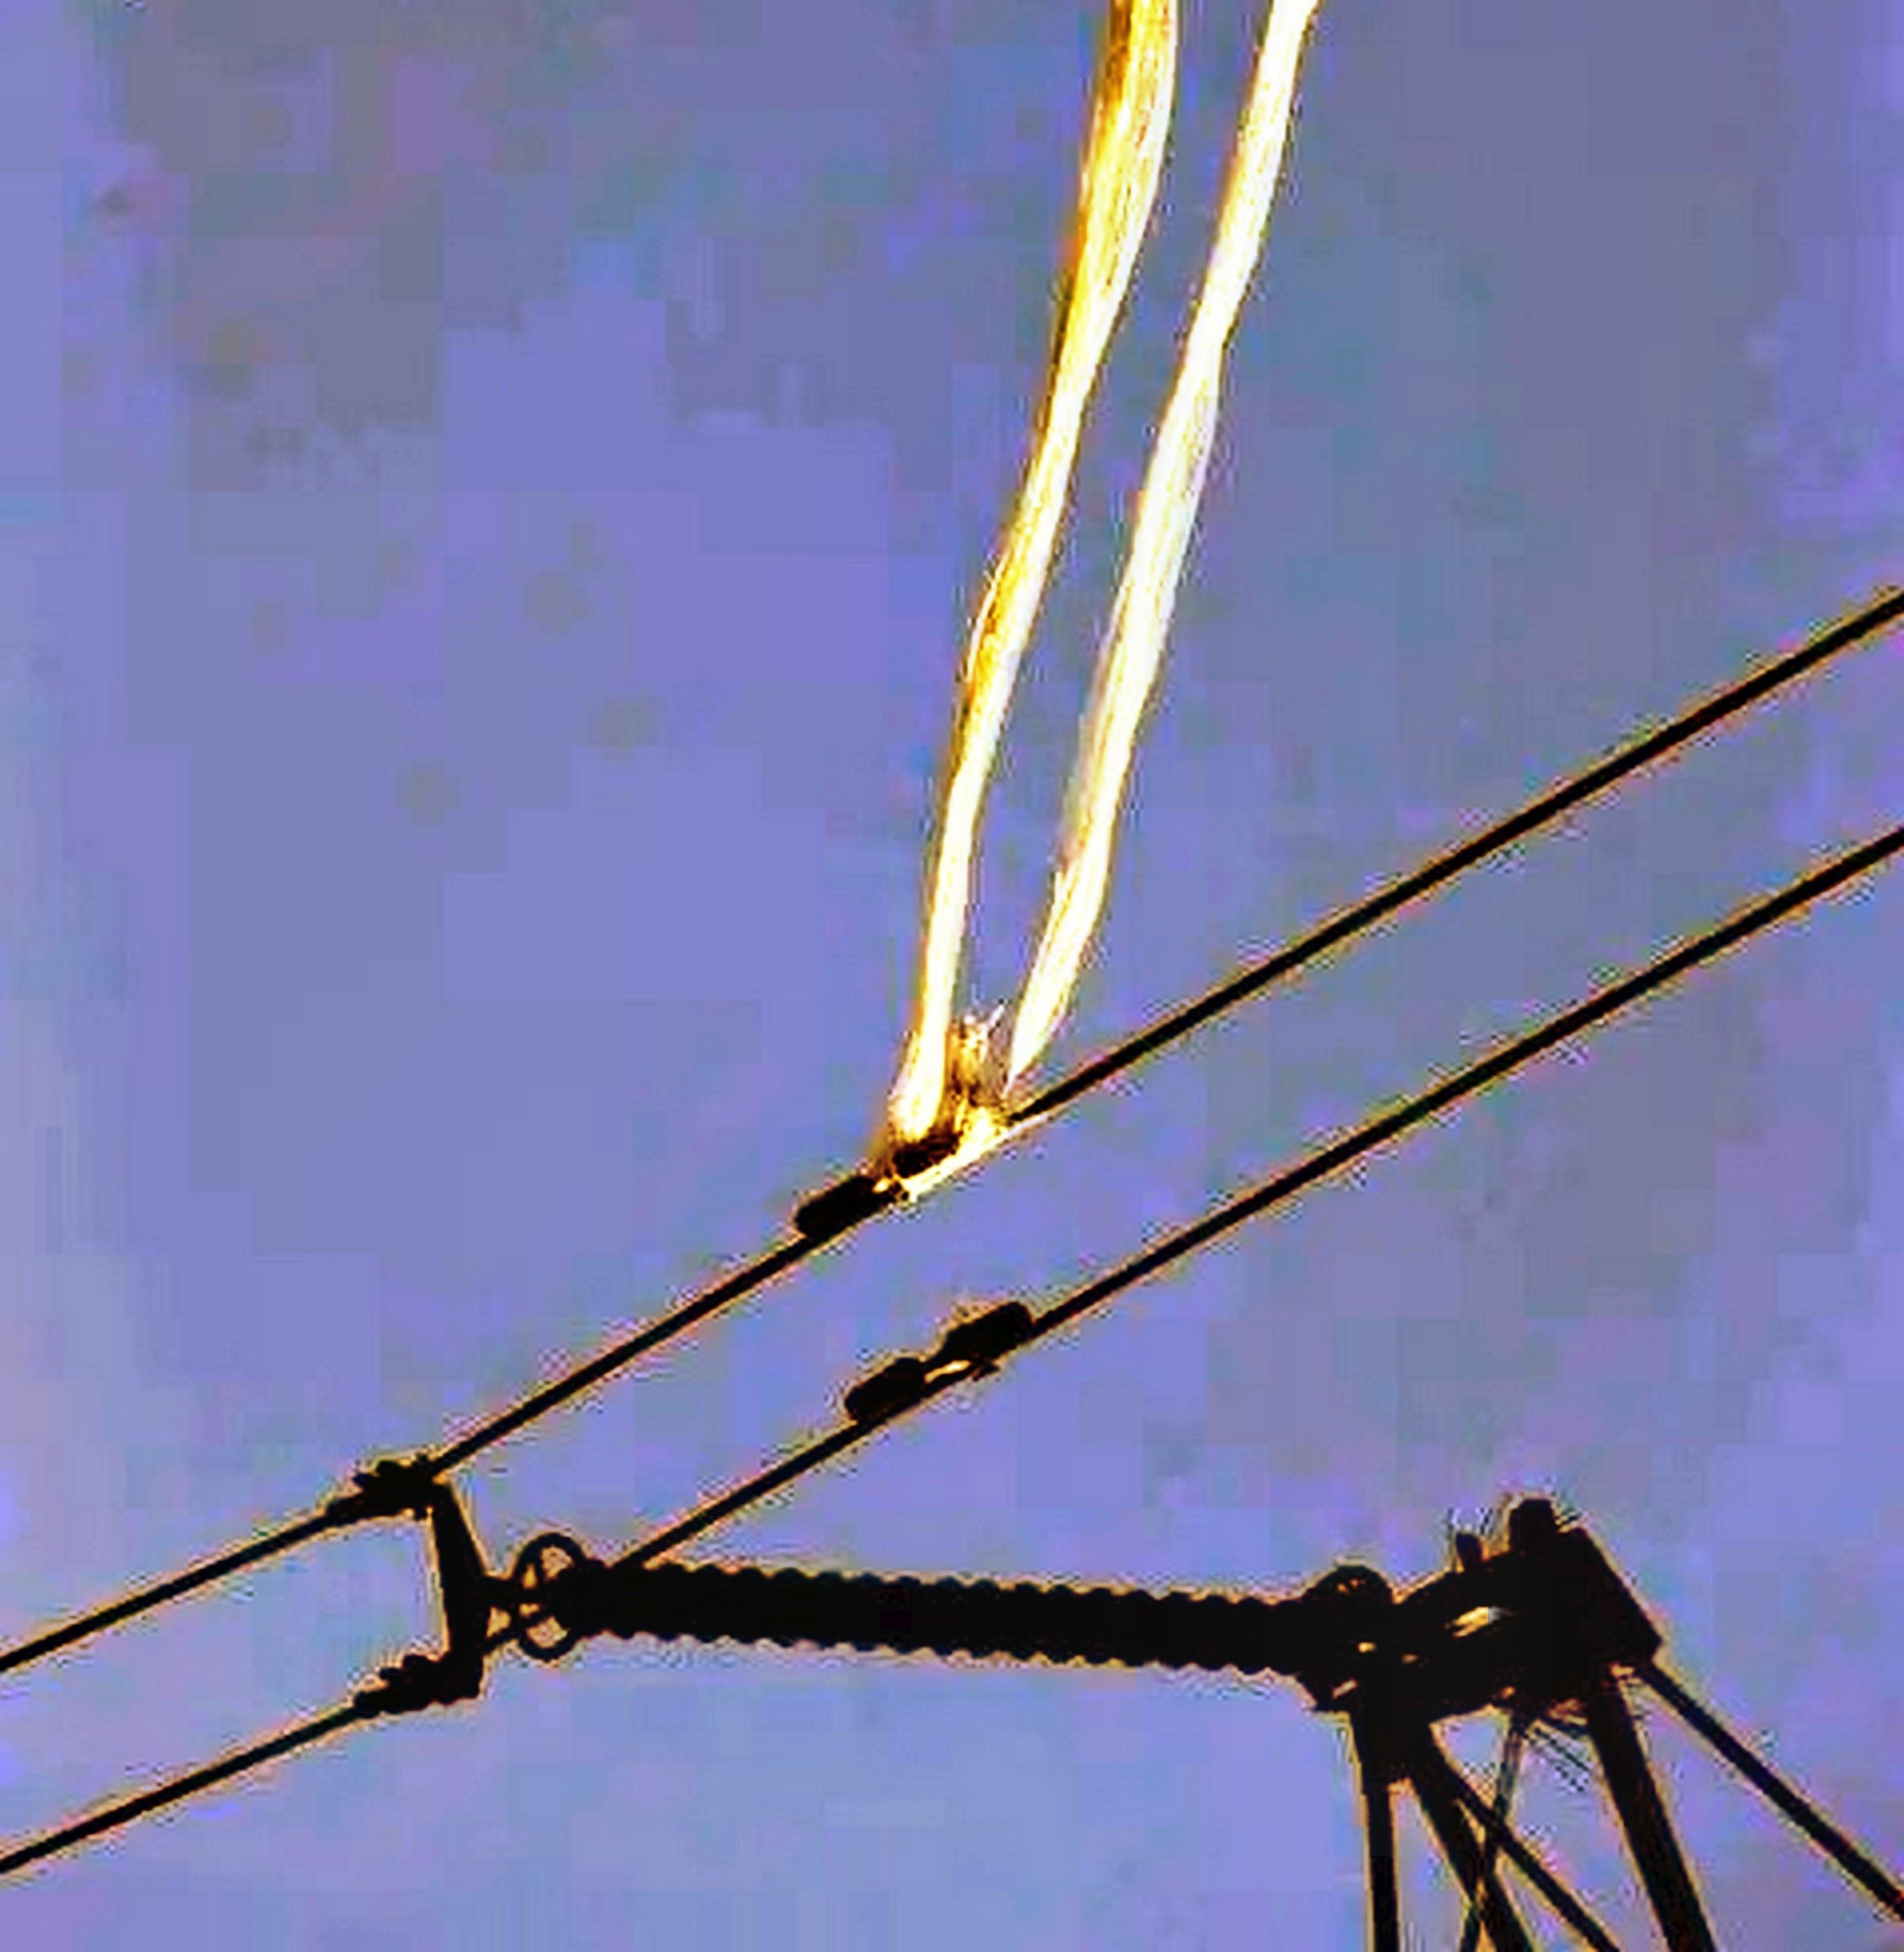wire foreign body: (872, 28, 1376, 1209)
